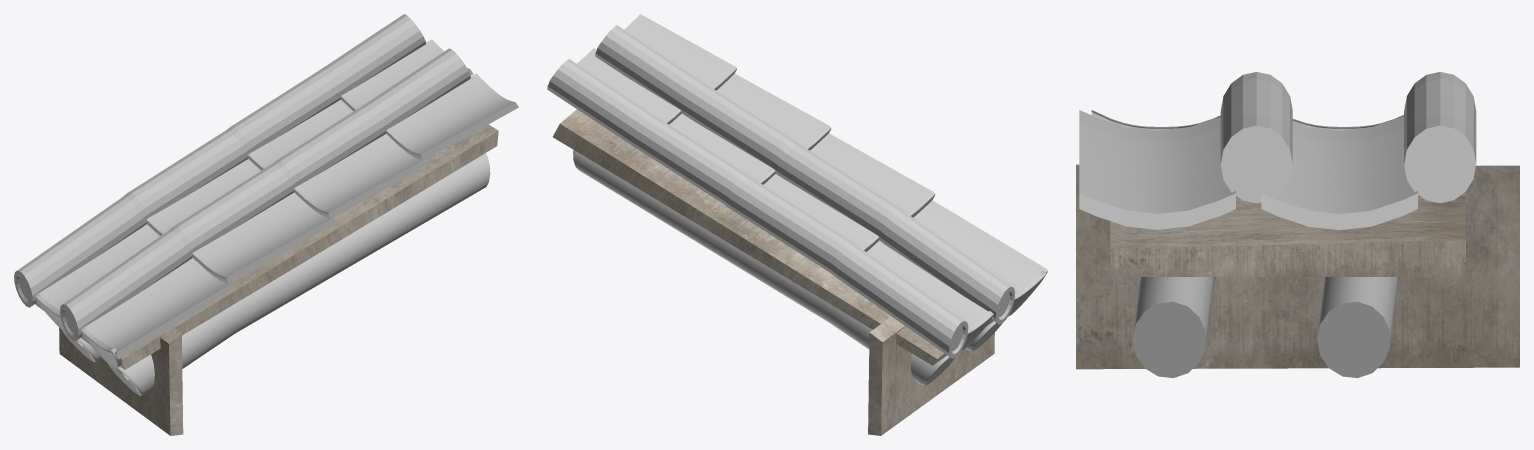
File: SM_Roof_55.fbx
3 views of the same model, side by side, from view 1: azimuth 30°, elevation 25°; view 2: azimuth 150°, elevation 25°; view 3: azimuth 270°, elevation 25° (orthographic). The views are drawn at different scales.
Visible parts, largest first — view 1: SM_Roof_55; view 2: SM_Roof_55; view 3: SM_Roof_55.
Boxes of the visible parts, x1,y1,x2,y2 form: SM_Roof_55: (14,14,518,435); SM_Roof_55: (547,14,1047,435); SM_Roof_55: (1076,72,1519,377).
Bounding box in the file's own units: 232 × 108 × 148.
